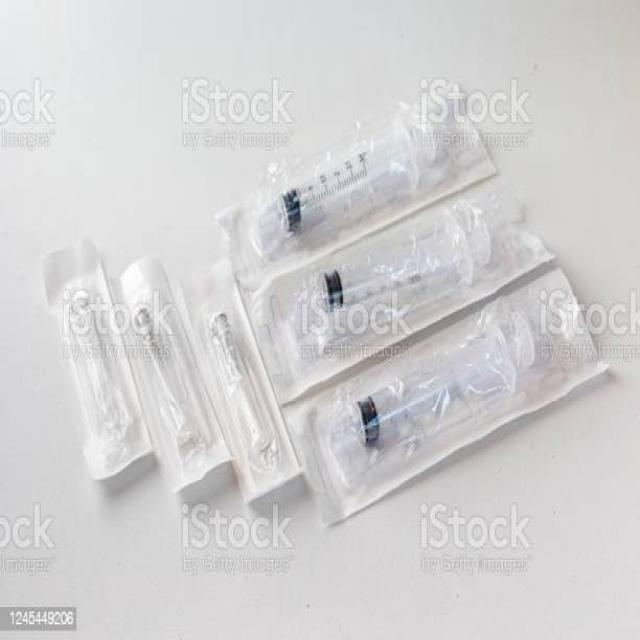B3: (207, 92, 523, 266), (316, 312, 616, 494)
